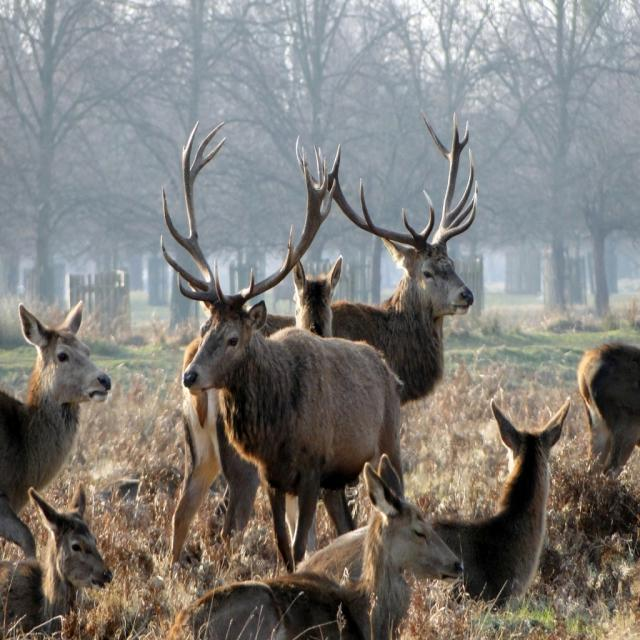Deer: (166, 107, 481, 562), (158, 107, 421, 577), (165, 451, 467, 640), (168, 244, 346, 564), (288, 390, 574, 584), (0, 299, 111, 582), (0, 484, 108, 634), (576, 336, 640, 484)
